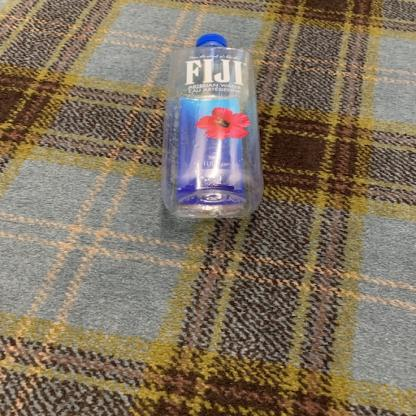trash: (161, 36, 265, 223)
